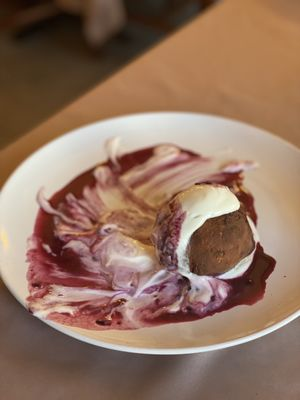curry: (1, 1, 300, 396)
sandwich: (21, 133, 279, 332)
